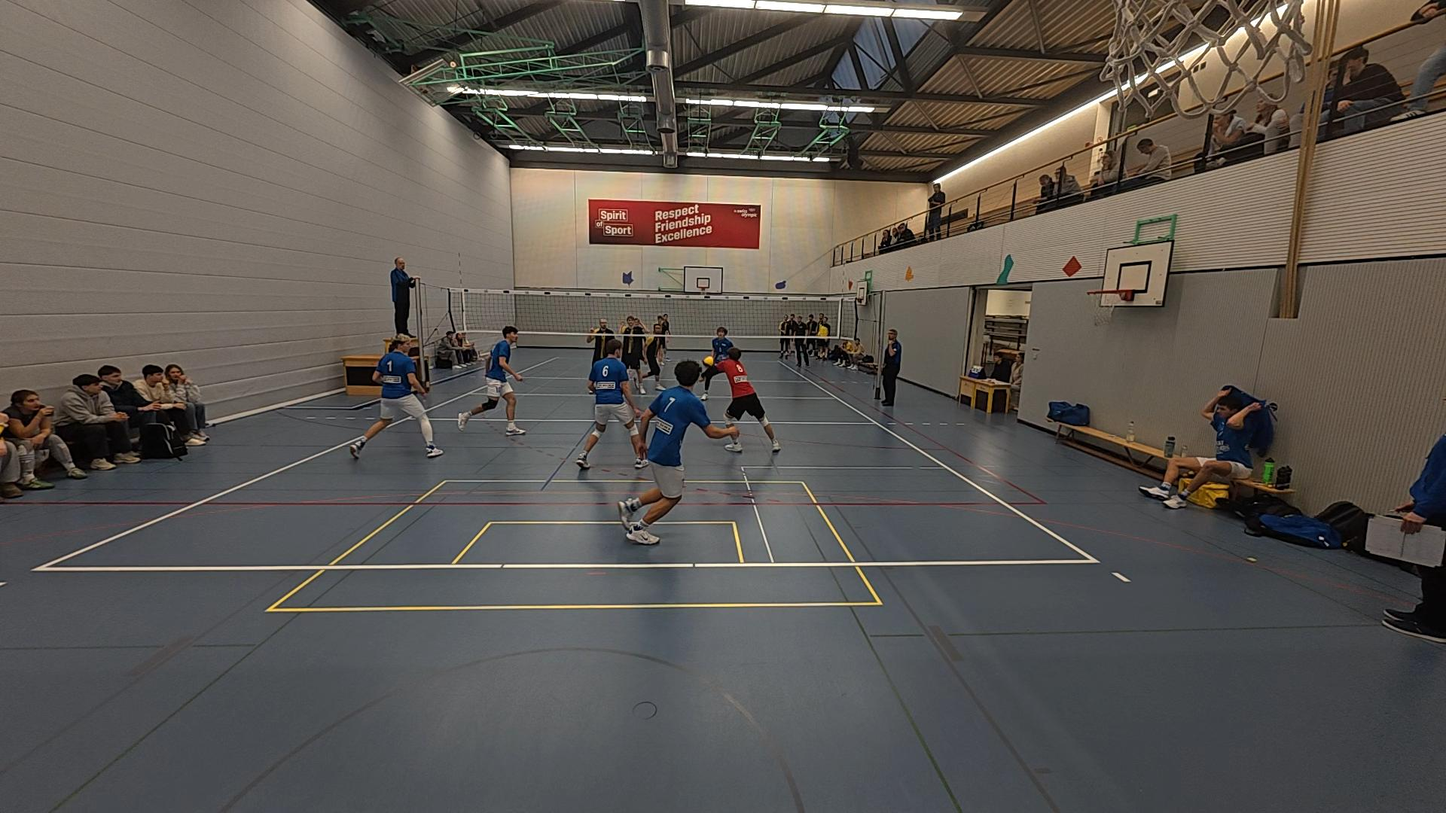difesa: (696, 346, 782, 453)
